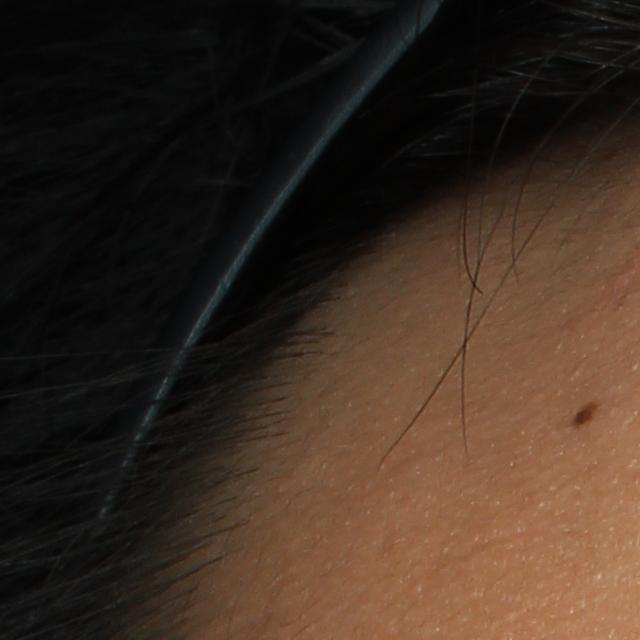nevus: (568, 395, 602, 426)
